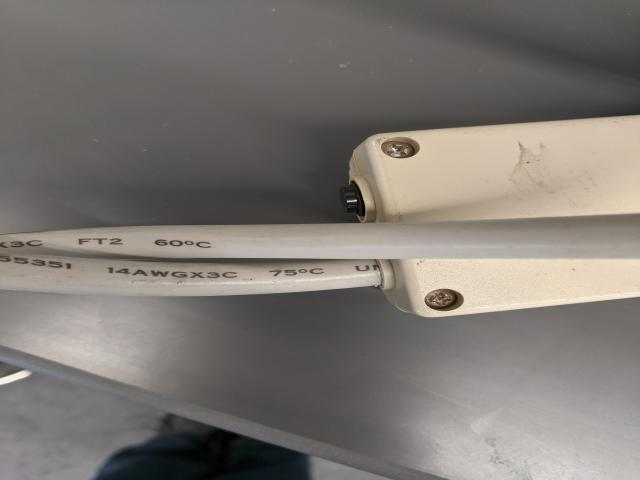CRS: (422, 288, 463, 310), (378, 139, 420, 160)
